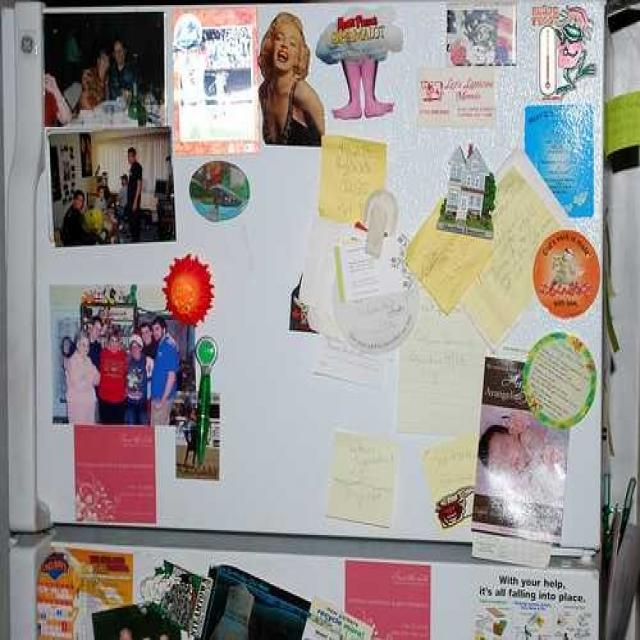refrigerator: (6, 2, 604, 640)
